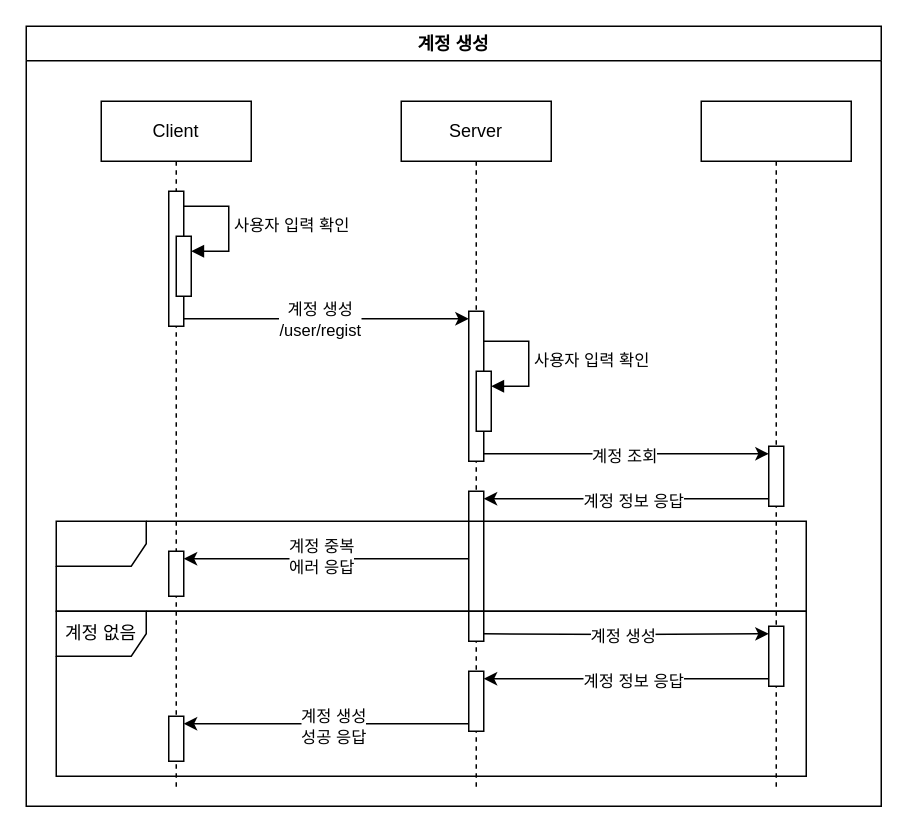
This 908x833 diagram has some shape labels left out. Each missing label, with the centre of its shape:
Database: pixel 775 445
계정 중복: pixel 430 565
